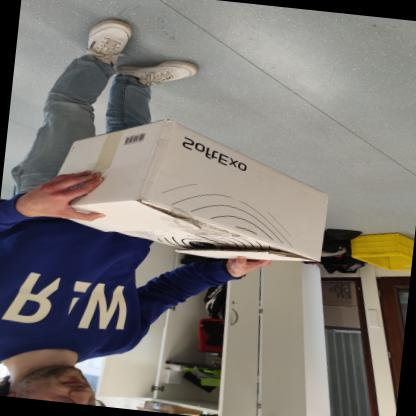box: (34, 107, 340, 273), (346, 228, 414, 282)
